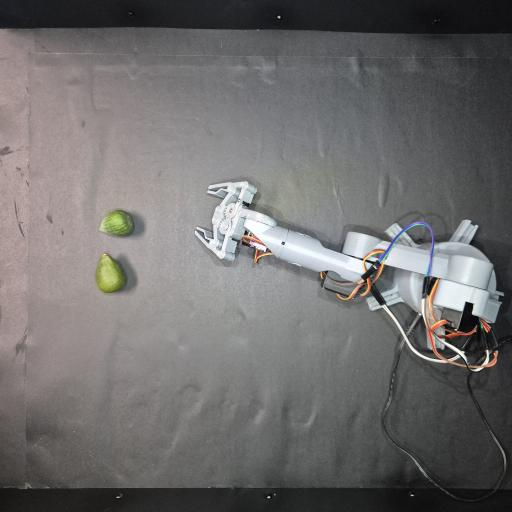higo: (96, 253, 126, 293), (99, 210, 134, 236)
